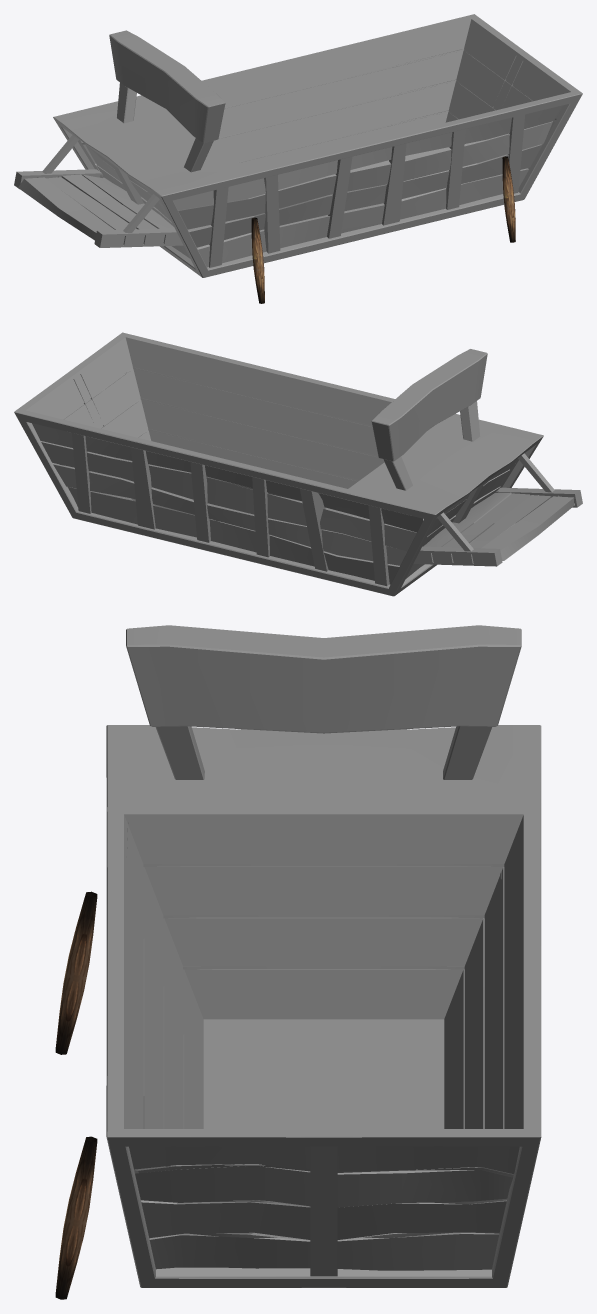
File: wagon01.FBX
3 renders of one model, top to bottom at view 1: azimuth 30°, elevation 25°; view 2: azimuth 150°, elevation 25°; view 3: azimuth 270°, elevation 25°, orthographic. The views are drawn at different scales.
Parts seen in each view (by area): view 1: wagon003; view 2: wagon003; view 3: wagon003.
Part boxes in pixels (x1,y1,x2,y2): wagon003: (14,14,582,303); wagon003: (14,332,582,596); wagon003: (55,625,541,1299).
Bounding box in the file's own units: 435 × 171 × 193.
